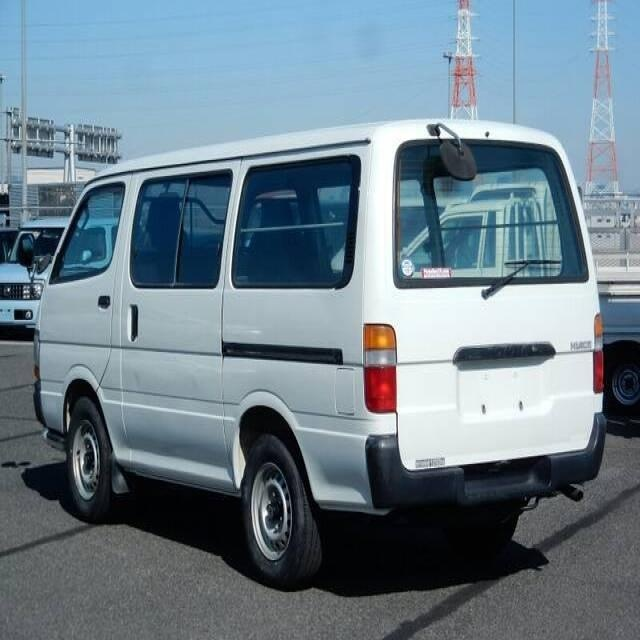Van: (30, 120, 609, 576)
